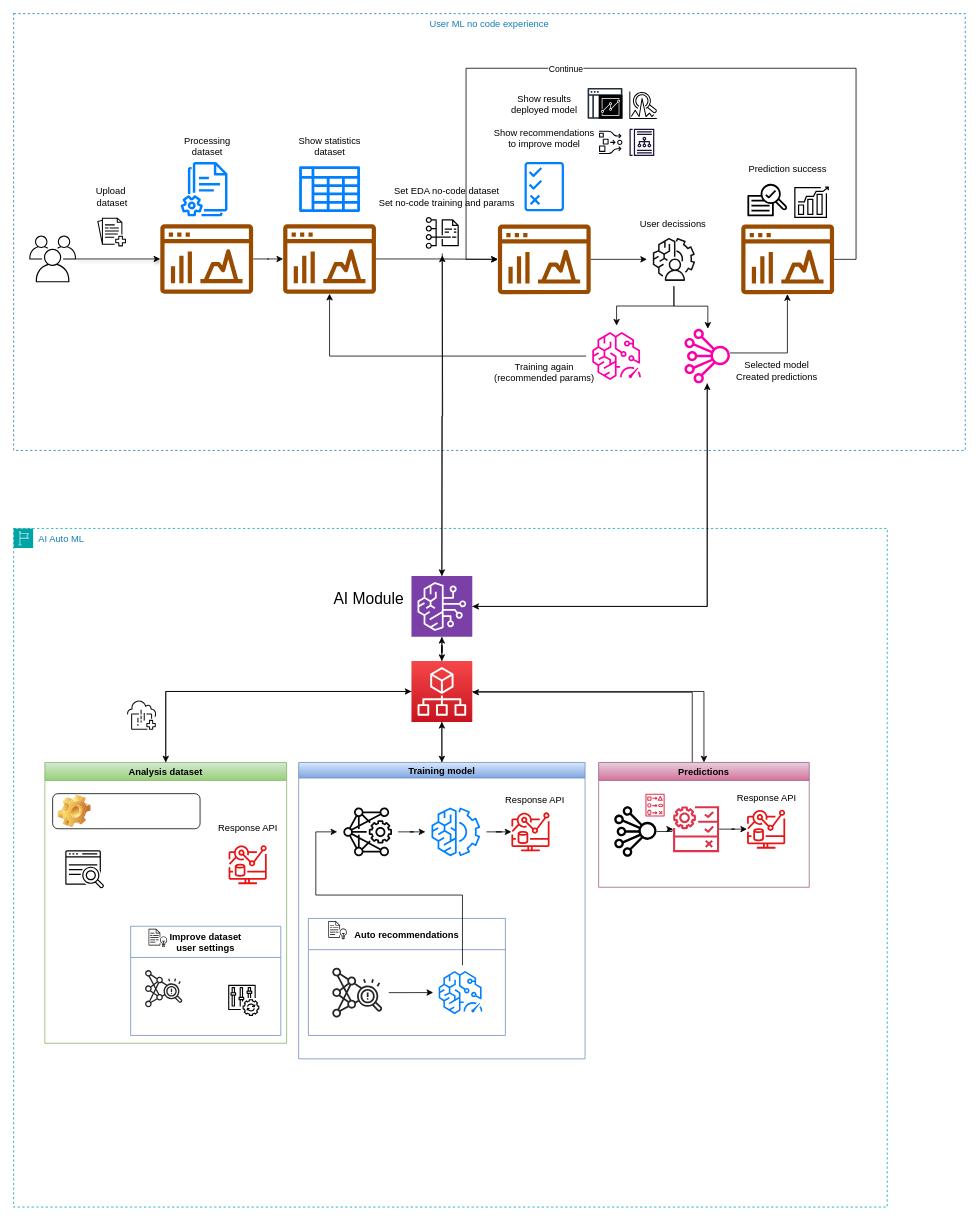
The diagram is 979 pixels wide and 1221 high, and some of its shapes have lost their labels. The centre of each missing label's shape, as x and y in pixels:
Reading dataset Reading user inputs: point 126,811
users: point 52,258
